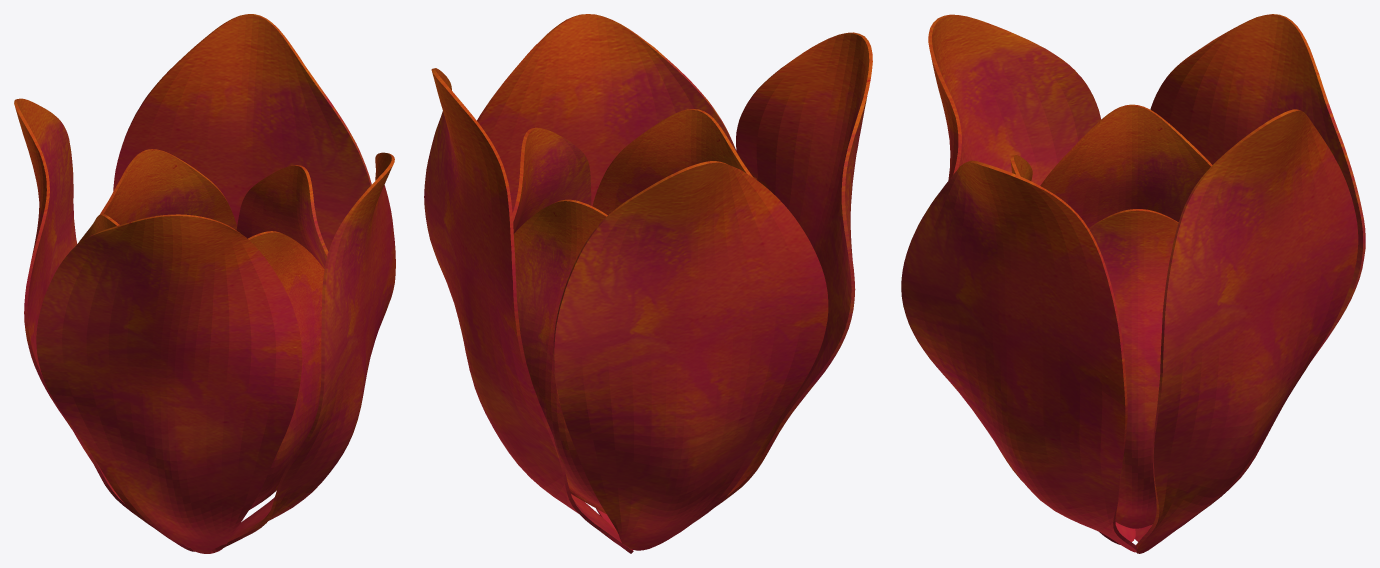
Rendered from m_tulip.gltf.
The picture shows the model from 3 angles, left to right: view 1: azimuth 30°, elevation 25°; view 2: azimuth 150°, elevation 25°; view 3: azimuth 270°, elevation 25°; orthographic projection. The views are drawn at different scales.
Parts seen in each view (by area): view 1: petaleAutour.003, petaleAutour.002, petaleAutour.001, petaleAutour.004, petaleCoeur.003, petaleCoeur.001, petaleCoeur.002; view 2: petaleAutour.004, petaleAutour.002, petaleAutour.003, petaleAutour.001, petaleCoeur.001, petaleCoeur.003, petaleCoeur.002; view 3: petaleAutour.001, petaleAutour.002, petaleAutour.003, petaleAutour.004, petaleCoeur.002, petaleCoeur.004.
Part boxes in pixels (<box>): petaleAutour.003: <box>36,214,302,553</box>; petaleAutour.002: <box>113,14,371,251</box>; petaleAutour.001: <box>211,152,395,553</box>; petaleAutour.004: <box>14,98,194,551</box>; petaleCoeur.003: <box>248,231,324,509</box>; petaleCoeur.001: <box>99,149,236,230</box>; petaleCoeur.002: <box>236,165,328,268</box>; petaleAutour.004: <box>553,161,828,550</box>; petaleAutour.002: <box>424,68,633,553</box>; petaleAutour.003: <box>658,32,872,544</box>; petaleAutour.001: <box>477,14,736,530</box>; petaleCoeur.001: <box>513,199,607,513</box>; petaleCoeur.003: <box>592,109,752,214</box>; petaleCoeur.002: <box>512,127,591,233</box>; petaleAutour.001: <box>901,160,1137,552</box>; petaleAutour.002: <box>1136,109,1358,553</box>; petaleAutour.003: <box>928,14,1135,544</box>; petaleAutour.004: <box>1134,14,1365,541</box>; petaleCoeur.002: <box>1088,209,1178,528</box>; petaleCoeur.004: <box>1040,104,1212,227</box>.
Bounding box in the file's own units: 0.2013 × 0.24 × 0.2019.
Materials: 1 (1 with a texture image).
